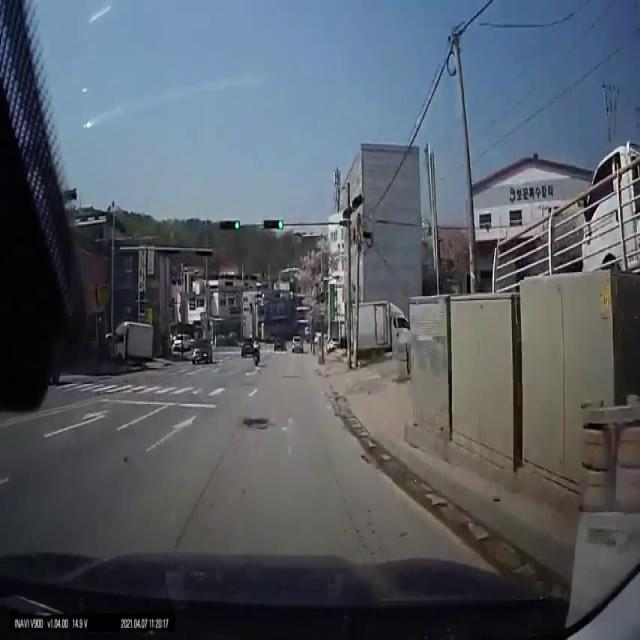pothole: (243, 416, 272, 430)
